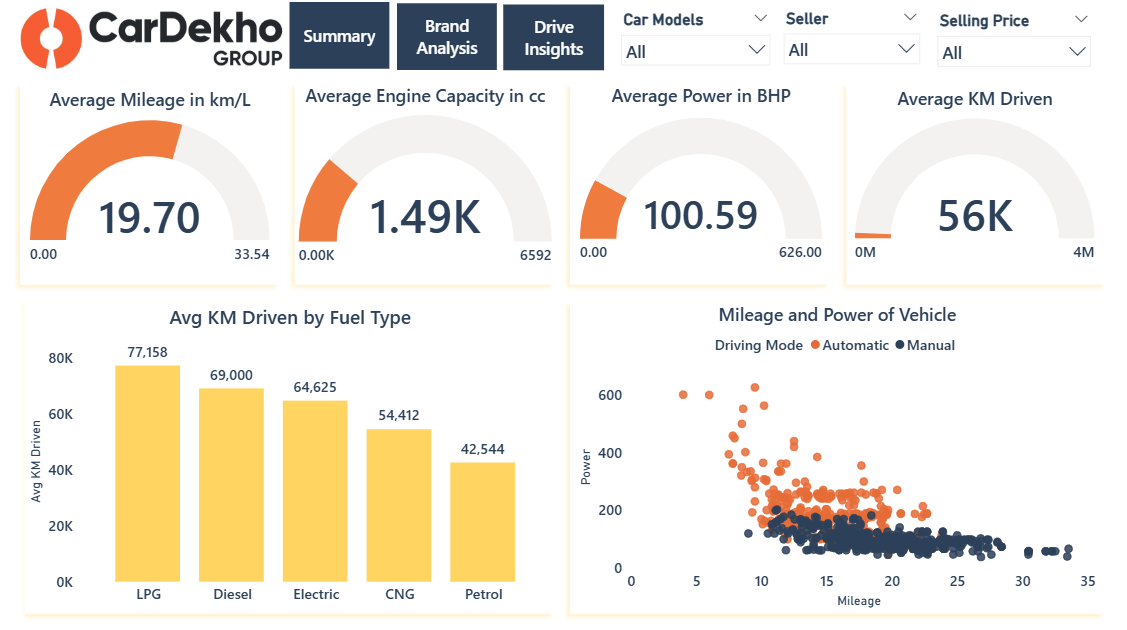

What the dashboard file says about the page in this screenshot:
{"tool":"powerbi","page":{"name":"Drive Insights","canvas":[1280,720],"ordinal":2},"visuals":[{"type":"shape","box":[17,89.2,310.1,244.3],"z":0},{"type":"image","box":[18.1,0,311.3,94.1],"z":1000},{"type":"gauge","title":"Average Mileage in km/L","fields":{"Y":["cars.Avg Mileage num"],"MaxValue":["cars.Max Mileage num"]},"box":[32.1,100.7,279.9,215.4],"z":2000},{"type":"shape","box":[327.1,89.2,310.1,244.3],"z":3000},{"type":"shape","box":[637.3,89.2,310.1,244.3],"z":4000},{"type":"shape","box":[947.4,89.2,310.1,244.3],"z":5000},{"type":"gauge","title":"Average Engine Capacity in cc","fields":{"Y":["cars.Avg Eng Capacity"],"MaxValue":["cars.Max Eng Capacity"]},"box":[335.4,96.6,295,219.6],"z":6000},{"type":"gauge","title":"Average Power in BHP","fields":{"Y":["cars.Avg Power"],"MaxValue":["cars.Max Power"]},"box":[652.4,96.6,282.7,219.6],"z":7000},{"type":"gauge","title":"Average KM Driven","fields":{"Y":["cars.Avg KM Driven"],"MaxValue":["cars.Max KM Driven"]},"box":[962.5,99.3,279.9,214.1],"z":8000},{"type":"shape","box":[24.7,333.4,612,370.5],"z":8500},{"type":"shape","box":[636.7,333.4,620.2,370.5],"z":8750},{"type":"scatterChart","title":"Mileage and Power of Vehicle","fields":{"X":["cars.mileage"],"Y":["cars.max_power"],"Series":["cars.transmission_type"]},"box":[650.3,343.8,592.4,349.9],"z":9000},{"type":"clusteredColumnChart","title":"Avg KM Driven by Fuel Type","fields":{"Category":["cars.fuel_type"],"Y":["cars.Avg KM Driven"]},"box":[31.6,344.4,598.3,349.9],"z":11000},{"type":"actionButton","box":[329.3,5.5,112.5,75.5],"z":11001},{"type":"actionButton","box":[450.1,6.9,112.5,75.5],"z":11002},{"type":"actionButton","box":[570.8,8.2,113.9,74.1],"z":11003},{"type":"slicer","title":"Car Models","fields":{"Values":["cars.car_name"]},"box":[692.5,9.7,188.2,70],"z":11004},{"type":"slicer","title":"Fuel Type","fields":{"Values":["cars.seller_type"]},"box":[875.9,8.4,173.7,70],"z":11005},{"type":"slicer","title":"Fuel Type","fields":{"Values":["cars.selling_price"]},"box":[1049.6,10.9,193,70],"z":11006}]}

Visuals, with their boxes in screenshot pixels (x1, y1, x2, y2), scaled from the page's 1280x720 canvas onto the 1127x630 screenshot:
shape: (15, 78, 288, 292)
image: (16, 0, 290, 82)
"Average Mileage in km/L" gauge: (28, 88, 275, 277)
shape: (288, 78, 561, 292)
shape: (561, 78, 834, 292)
shape: (834, 78, 1107, 292)
"Average Engine Capacity in cc" gauge: (295, 85, 555, 277)
"Average Power in BHP" gauge: (574, 85, 823, 277)
"Average KM Driven" gauge: (847, 87, 1094, 274)
shape: (22, 292, 561, 616)
shape: (561, 292, 1107, 616)
"Mileage and Power of Vehicle" scatterChart: (573, 301, 1094, 607)
"Avg KM Driven by Fuel Type" clusteredColumnChart: (28, 301, 555, 608)
actionButton: (290, 5, 389, 71)
actionButton: (396, 6, 495, 72)
actionButton: (503, 7, 603, 72)
"Car Models" slicer: (610, 8, 775, 70)
"Fuel Type" slicer: (771, 7, 924, 69)
"Fuel Type" slicer: (924, 10, 1094, 71)
